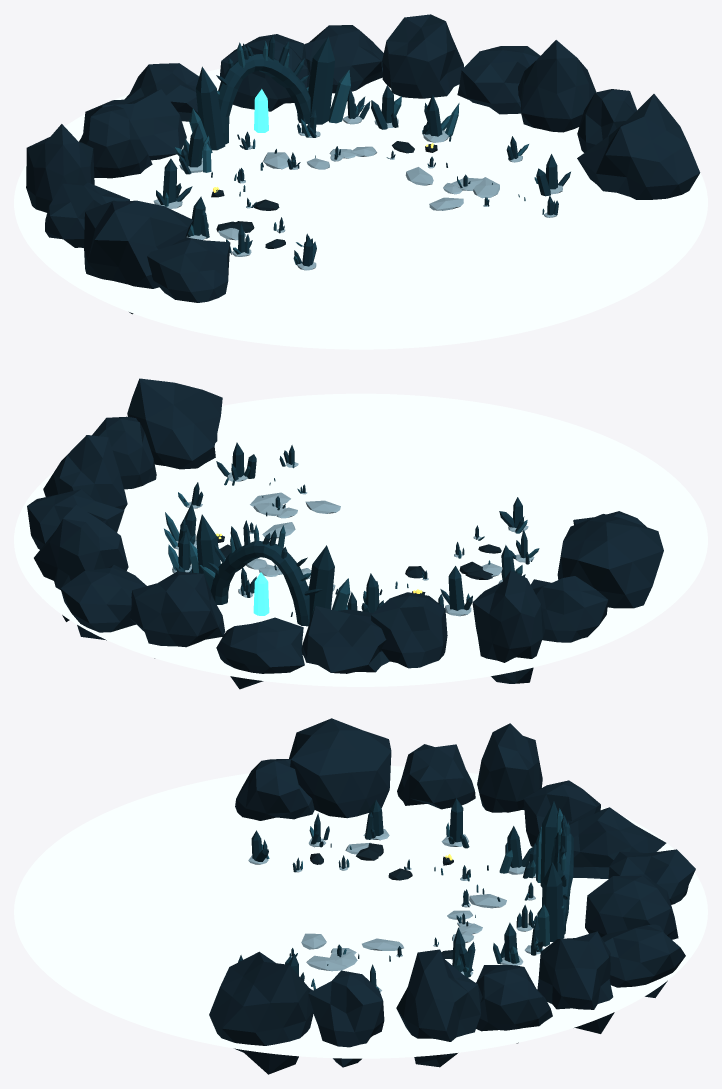
3 renders of one model, top to bottom at view 1: azimuth 30°, elevation 25°; view 2: azimuth 150°, elevation 25°; view 3: azimuth 270°, elevation 25°, orthographic.
Visible parts, largest first — view 1: sol, decor; view 2: sol, decor; view 3: sol, decor.
Boxes of the visible parts, left/top/right/bottom form: sol: left=14, top=63, right=707, bottom=349; decor: left=26, top=14, right=700, bottom=314; sol: left=14, top=393, right=707, bottom=686; decor: left=27, top=378, right=663, bottom=689; sol: left=14, top=766, right=707, bottom=1058; decor: left=209, top=718, right=695, bottom=1074.
Size of the model in its own units: 96 by 20.48 by 96.
